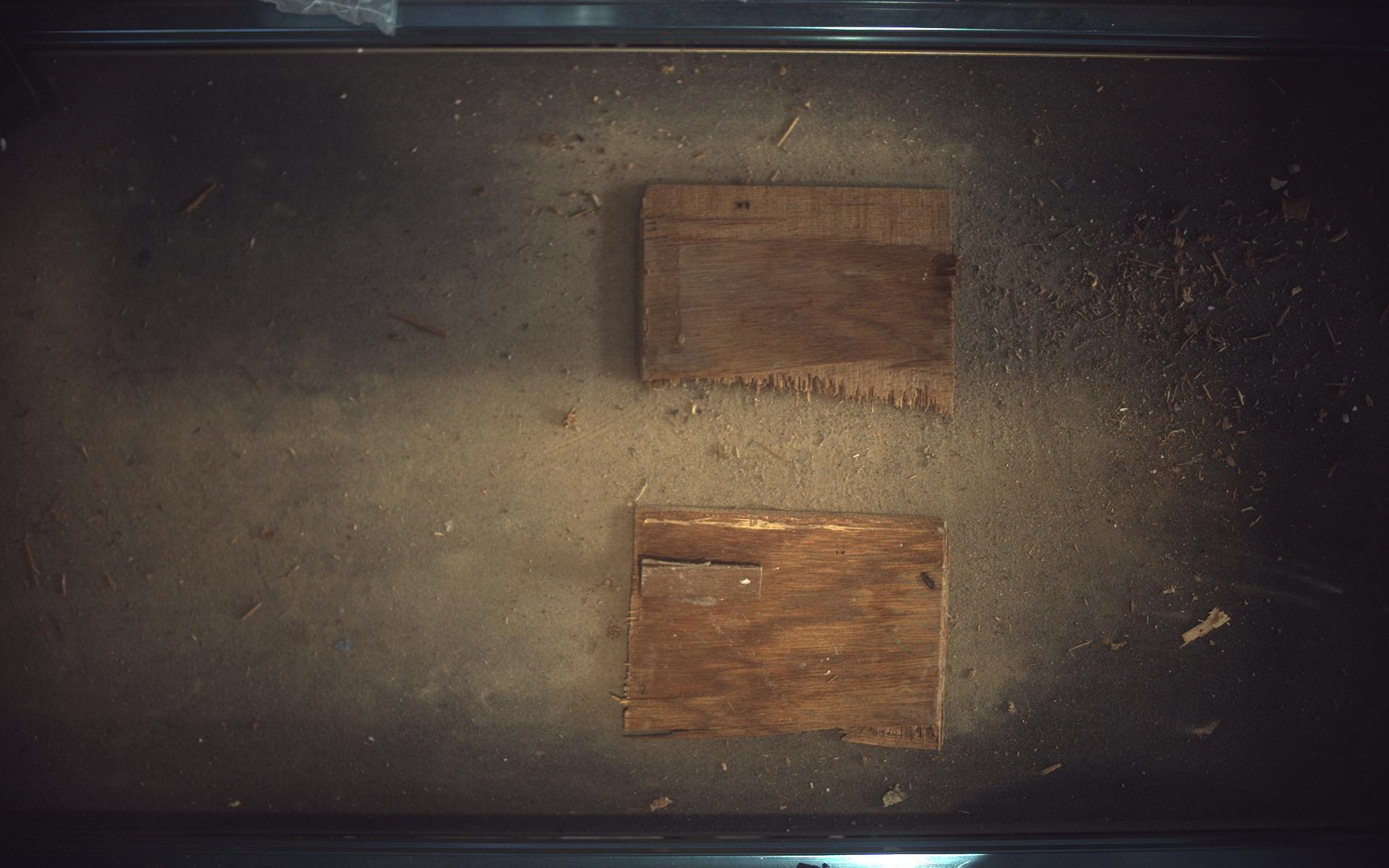wood: (624, 509, 950, 752), (641, 184, 959, 414)
